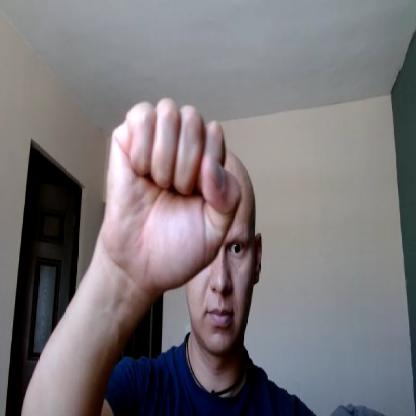S: (105, 98, 241, 287)
